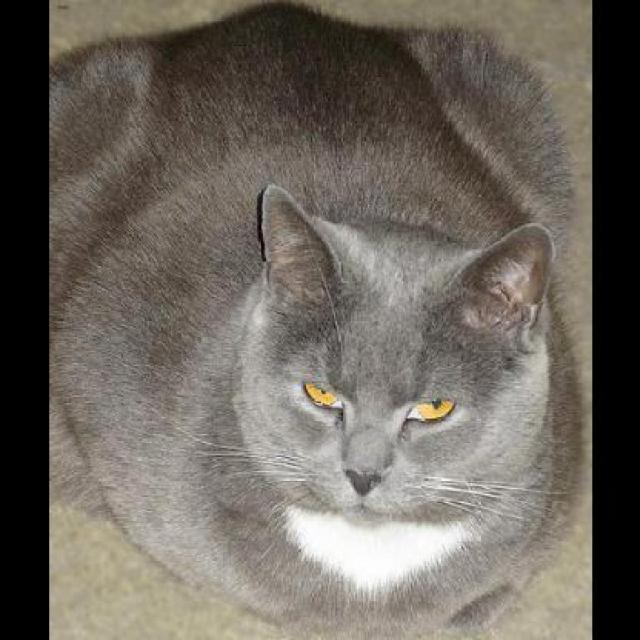unauthorized: (47, 0, 587, 638)
